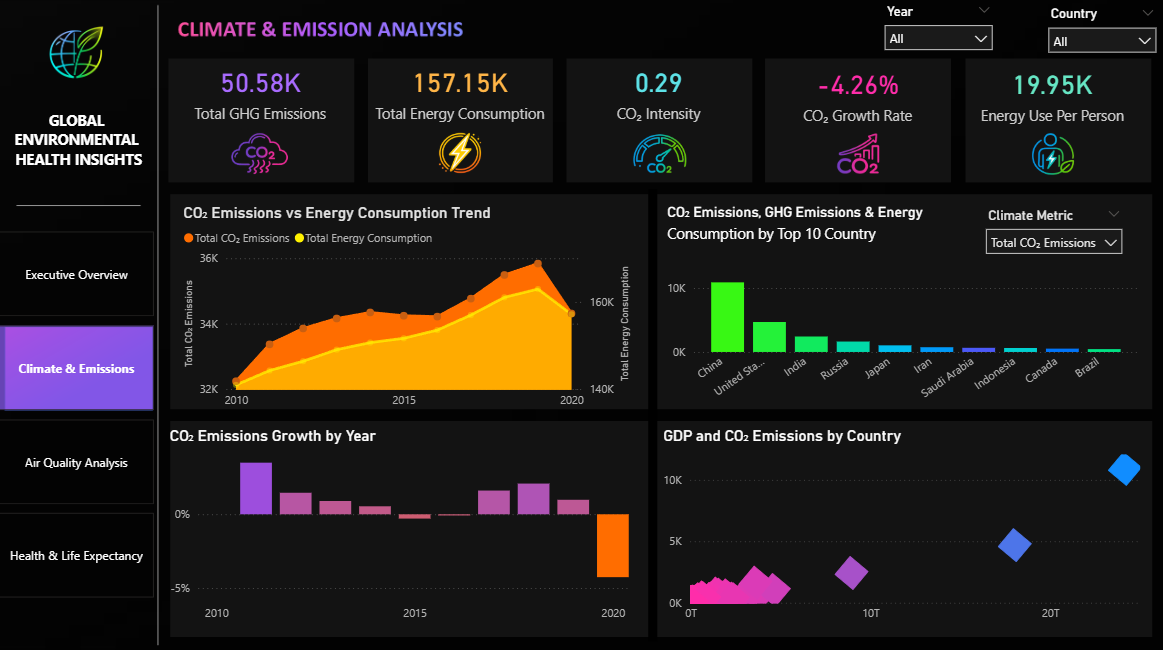

This screenshot's page, from the dashboard's own definition file:
{"tool":"powerbi","page":{"name":"Climate & Emissions","canvas":[1280,720],"ordinal":1},"visuals":[{"type":"image","box":[43.9,17.8,82.3,83.7],"z":0},{"type":"textbox","box":[0,116.6,170.2,85.1],"z":1000},{"type":"slicer","fields":{"Values":["Date_Table.Year"]},"box":[962.5,0,138.8,62.5],"z":2000},{"type":"slicer","fields":{"Values":["Country_Table.Country"]},"box":[1141.2,2.5,138.8,60],"z":3000},{"type":"card","fields":{"Values":["Calculated_Measures.Total GHG Emissions"]},"box":[197.5,60,178.8,82.5],"z":4000},{"type":"card","fields":{"Values":["Calculated_Measures.Total Energy Consumption"]},"box":[407.5,60,197.5,82.5],"z":5000},{"type":"card","fields":{"Values":["Calculated_Measures.CO2 Intensity"]},"box":[630,60,188.8,82.5],"z":6000},{"type":"card","fields":{"Values":["Calculated_Measures.CO2 Growth Rate"]},"box":[853.8,62.5,178.8,80],"z":7000},{"type":"card","fields":{"Values":["Calculated_Measures.Energy Use Per Person"]},"box":[1063.8,62.5,186.2,80],"z":8000},{"type":"image","box":[244.3,142.7,83.7,52.1],"z":9000},{"type":"image","box":[466.6,142.7,79.6,52.1],"z":10000},{"type":"image","box":[686.2,142.5,78.8,52.5],"z":11000},{"type":"image","box":[903.8,142.5,80,52.5],"z":12000},{"type":"image","box":[1117.5,142.5,80,52.5],"z":13000},{"type":"areaChart","title":"CO₂ Emissions vs Energy Consumption Trend","fields":{"Category":["Date_Table.Year"],"Y":["Calculated_Measures.Total CO₂ Emissions"],"Y2":["Calculated_Measures.Total Energy Consumption"]},"box":[197.6,223.7,500.9,234.6],"z":14000},{"type":"clusteredColumnChart","title":"CO₂ Emissions, GHG Emissions & Energy","fields":{"Y":["Calculated_Measures.Total CO₂ Emissions"],"Category":["Country_Table.Country"]},"box":[728.6,223.7,526.9,226.4],"z":15000},{"type":"slicer","fields":{"Values":["Climate Metric Selector.Climate Metric Selector"]},"box":[1072.5,223.8,170,71.2],"z":16000},{"type":"clusteredColumnChart","title":"CO₂ Emissions Growth by Year","fields":{"Y":["Calculated_Measures.CO2 Growth Rate"],"Category":["Date_Table.Year"]},"box":[182.5,467.9,516,225],"z":17000},{"type":"scatterChart","title":"GDP and CO₂ Emissions by Country","fields":{"X":["Calculated_Measures.Total GDP"],"Y":["Calculated_Measures.Total CO₂ Emissions"],"Category":["Country_Table.Country"]},"box":[724.5,467.9,543.4,225],"z":18000},{"type":"pageNavigator","box":[0,255.2,170.2,403.4],"z":19000},{"type":"shape","box":[709.4,208.6,16.5,496.7],"z":20000}]}

Visuals, with their boxes in screenshot pixels (x1, y1, x2, y2), scaled from the page's 1280x720 canvas onto the 1163x650 screenshot:
image: crop(40, 16, 115, 92)
textbox: crop(0, 105, 155, 182)
slicer - Date_Table.Year: crop(875, 0, 1001, 56)
slicer - Country_Table.Country: crop(1037, 2, 1162, 56)
card - Calculated_Measures.Total GHG Emissions: crop(179, 54, 342, 129)
card - Calculated_Measures.Total Energy Consumption: crop(370, 54, 550, 129)
card - Calculated_Measures.CO2 Intensity: crop(572, 54, 744, 129)
card - Calculated_Measures.CO2 Growth Rate: crop(776, 56, 938, 129)
card - Calculated_Measures.Energy Use Per Person: crop(967, 56, 1136, 129)
image: crop(222, 129, 298, 176)
image: crop(424, 129, 496, 176)
image: crop(623, 129, 695, 176)
image: crop(821, 129, 894, 176)
image: crop(1015, 129, 1088, 176)
"CO₂ Emissions vs Energy Consumption Trend" areaChart: crop(180, 202, 635, 414)
"CO₂ Emissions, GHG Emissions & Energy" clusteredColumnChart: crop(662, 202, 1141, 406)
slicer - Climate Metric Selector.Climate Metric Selector: crop(974, 202, 1129, 266)
"CO₂ Emissions Growth by Year" clusteredColumnChart: crop(166, 422, 635, 626)
"GDP and CO₂ Emissions by Country" scatterChart: crop(658, 422, 1152, 626)
pageNavigator: crop(0, 230, 155, 595)
shape: crop(645, 188, 660, 637)
